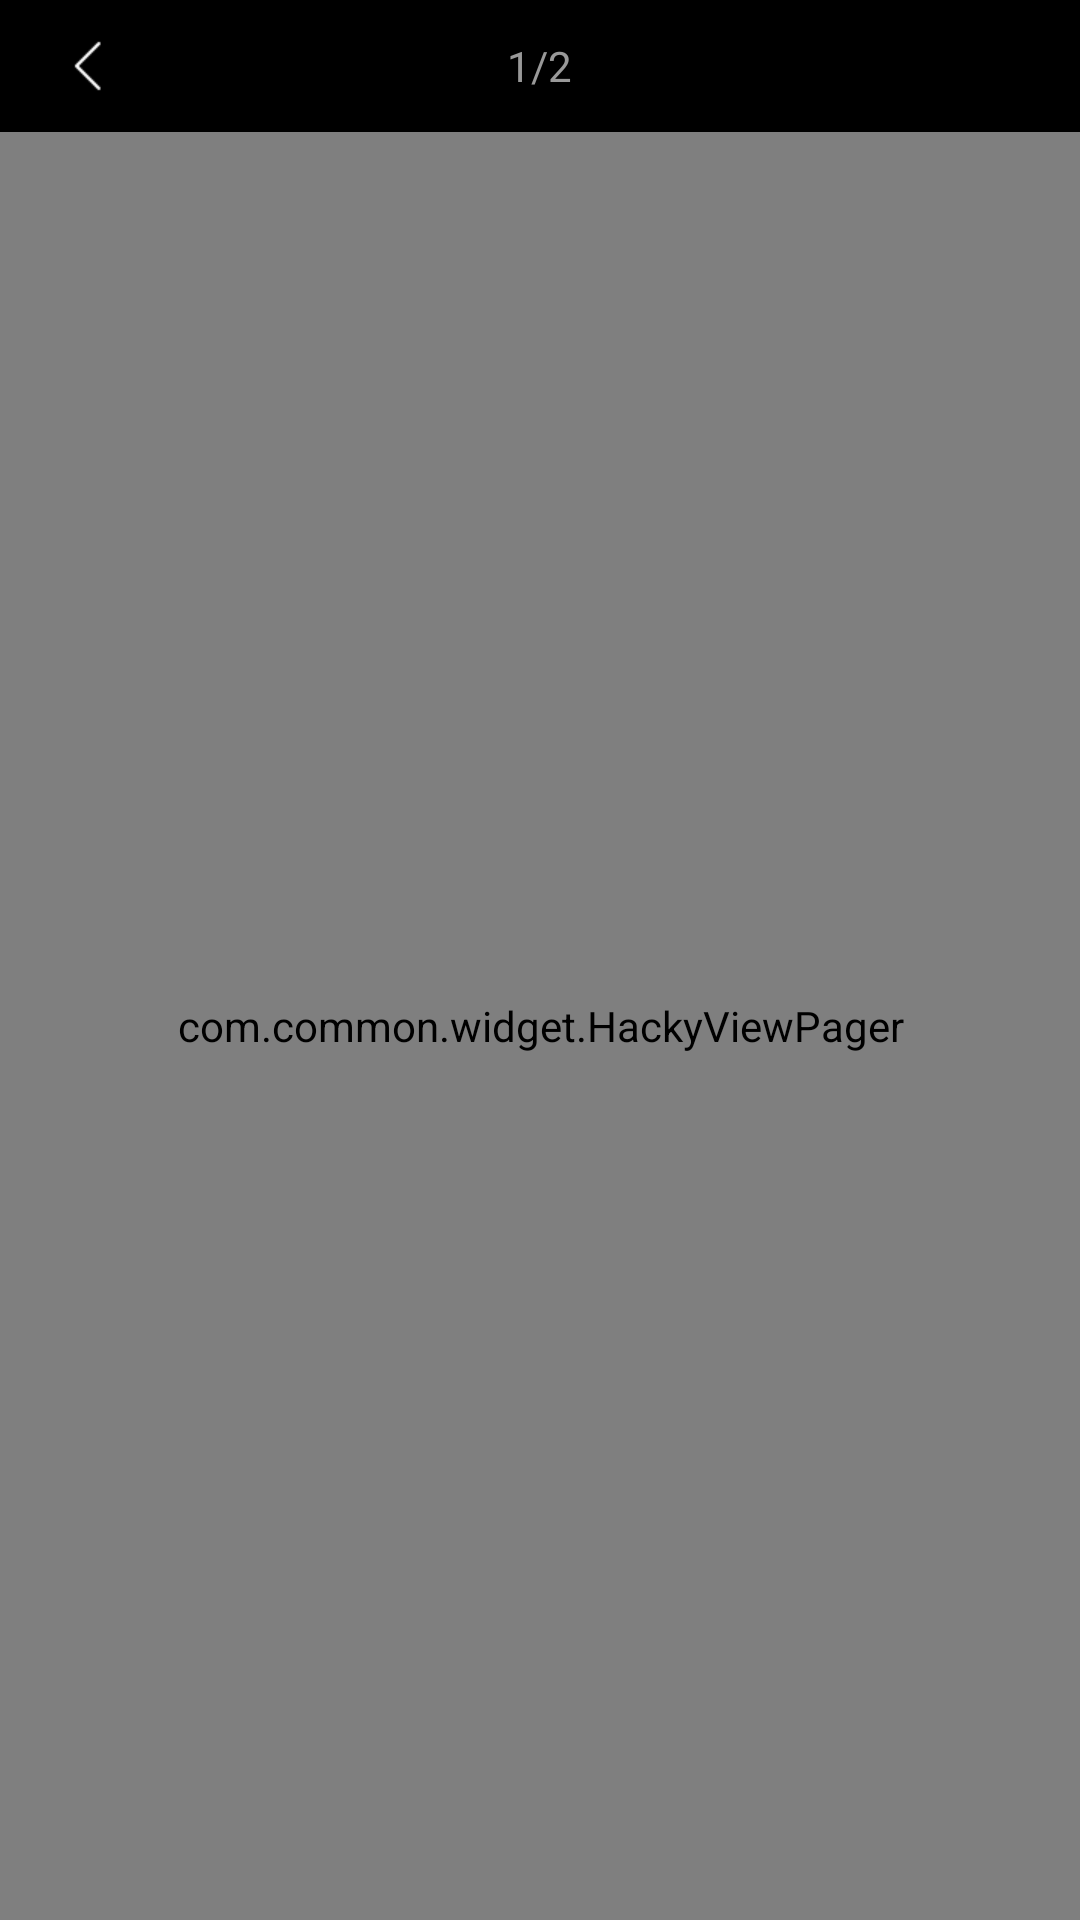

Where to tap for icons on this 1080 x 1920 app screen, as [x,y]:
title return up: [87,66]
